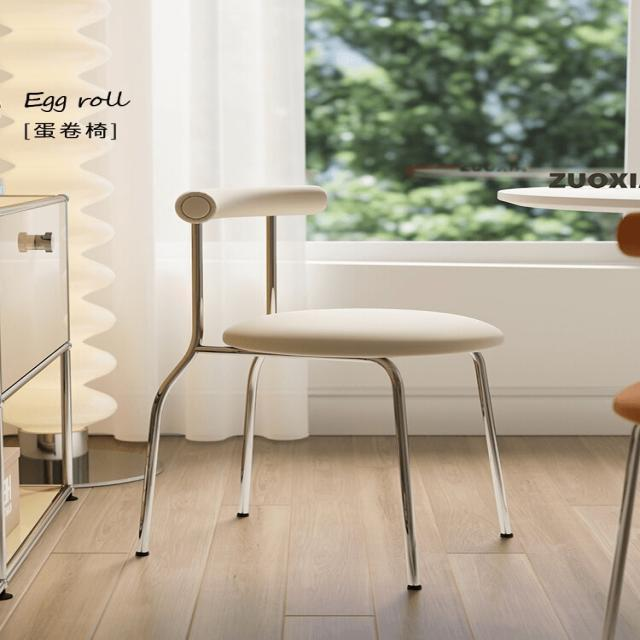chair: (130, 178, 518, 595), (184, 176, 516, 351)
